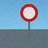sign: (20, 4, 38, 37)
